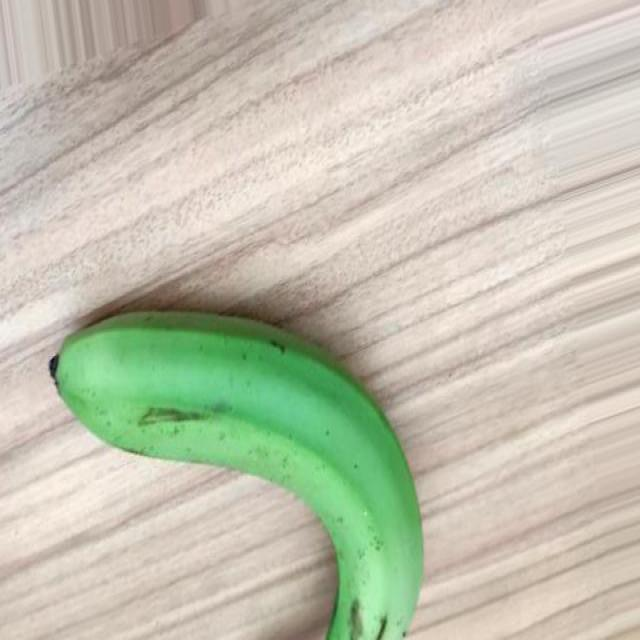Unripe: (47, 308, 424, 640)
